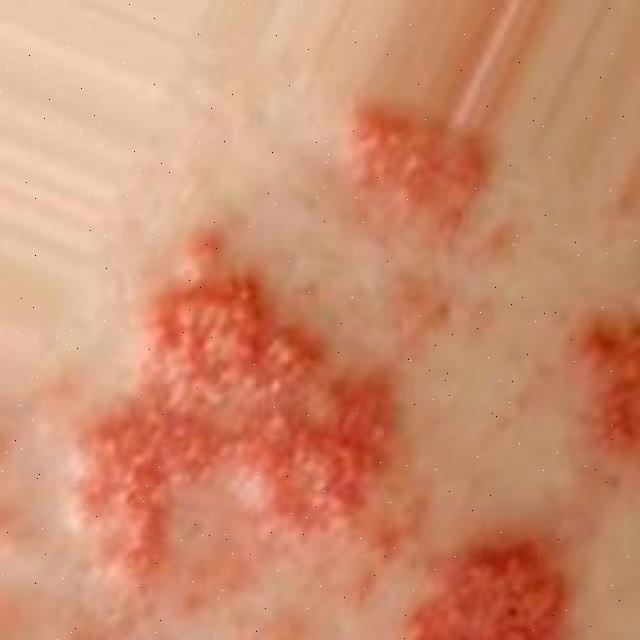Shingles: (73, 214, 390, 590), (331, 88, 484, 238), (405, 537, 570, 640), (568, 308, 640, 456)
